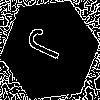J: (25, 25, 73, 66)
